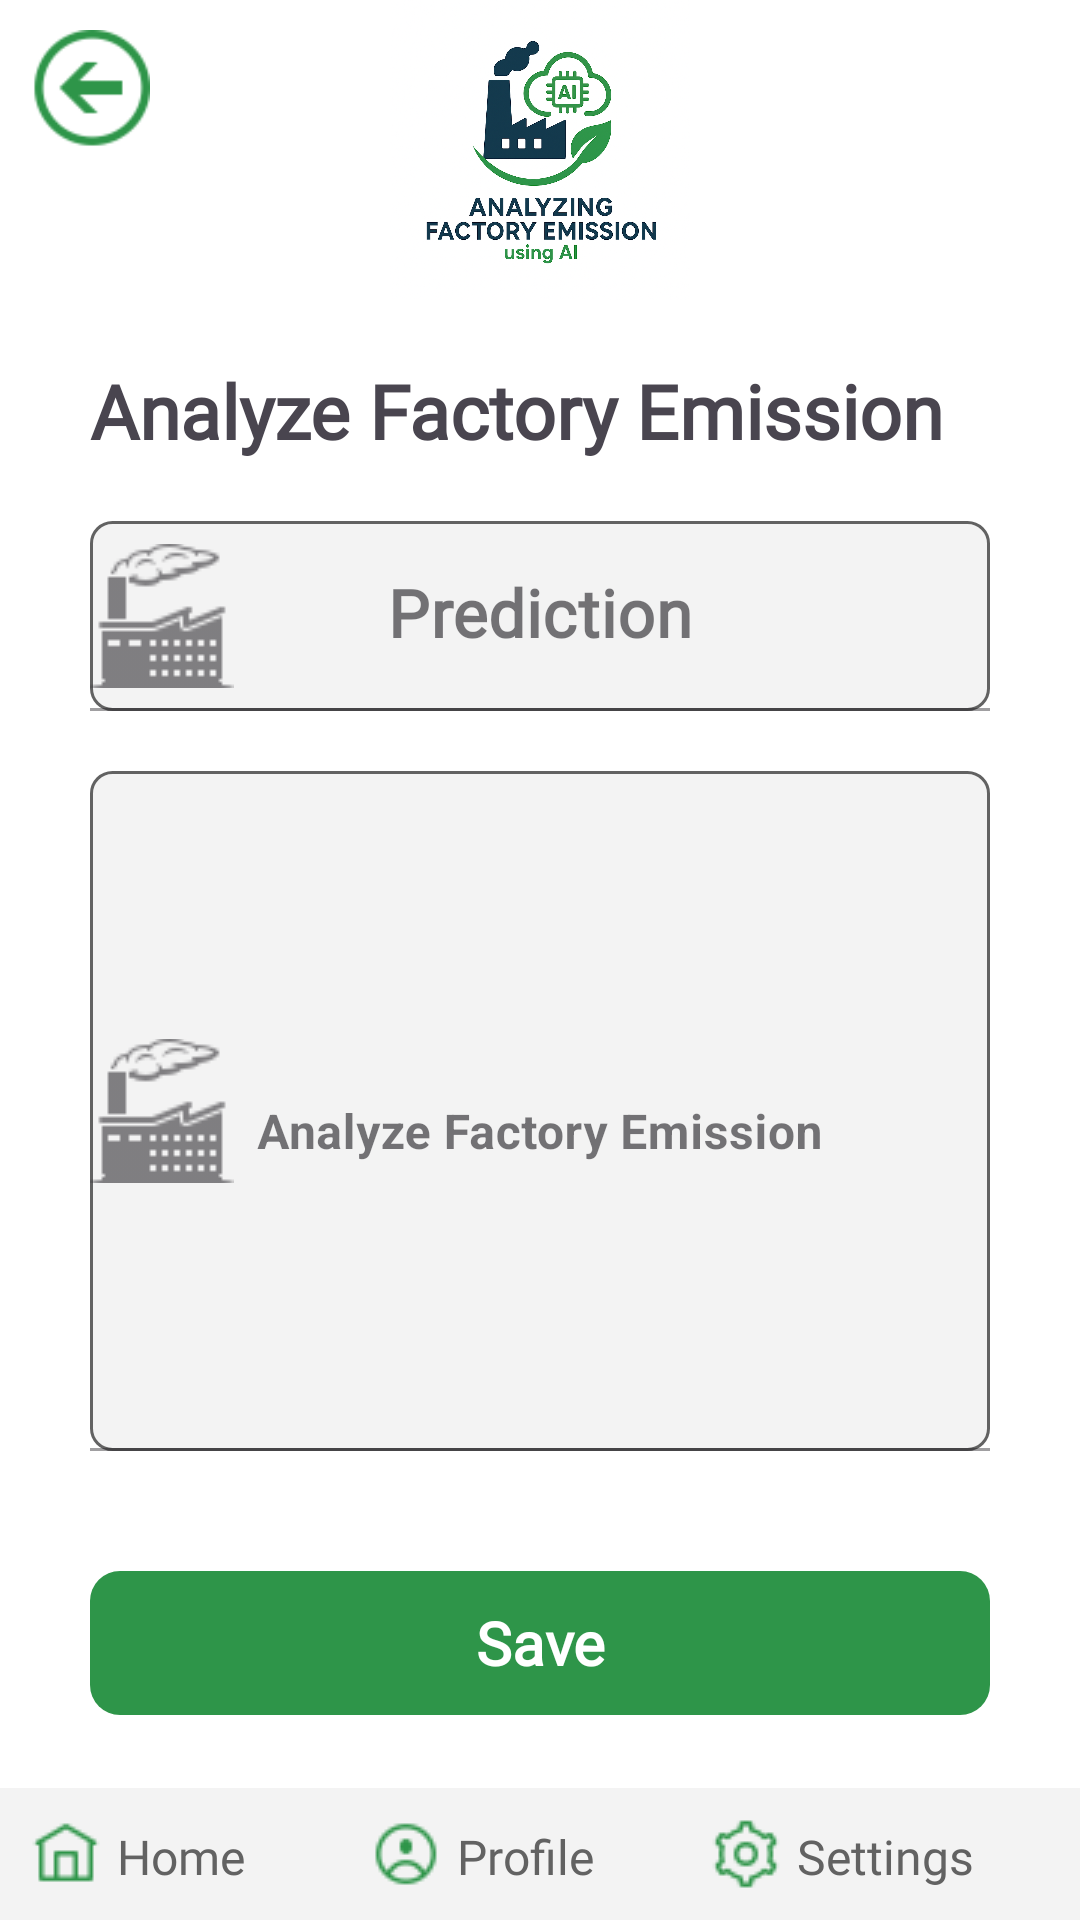

Where to tap for icons on this 1080x1920 app screen, as (x,y):
back: (92,88)
